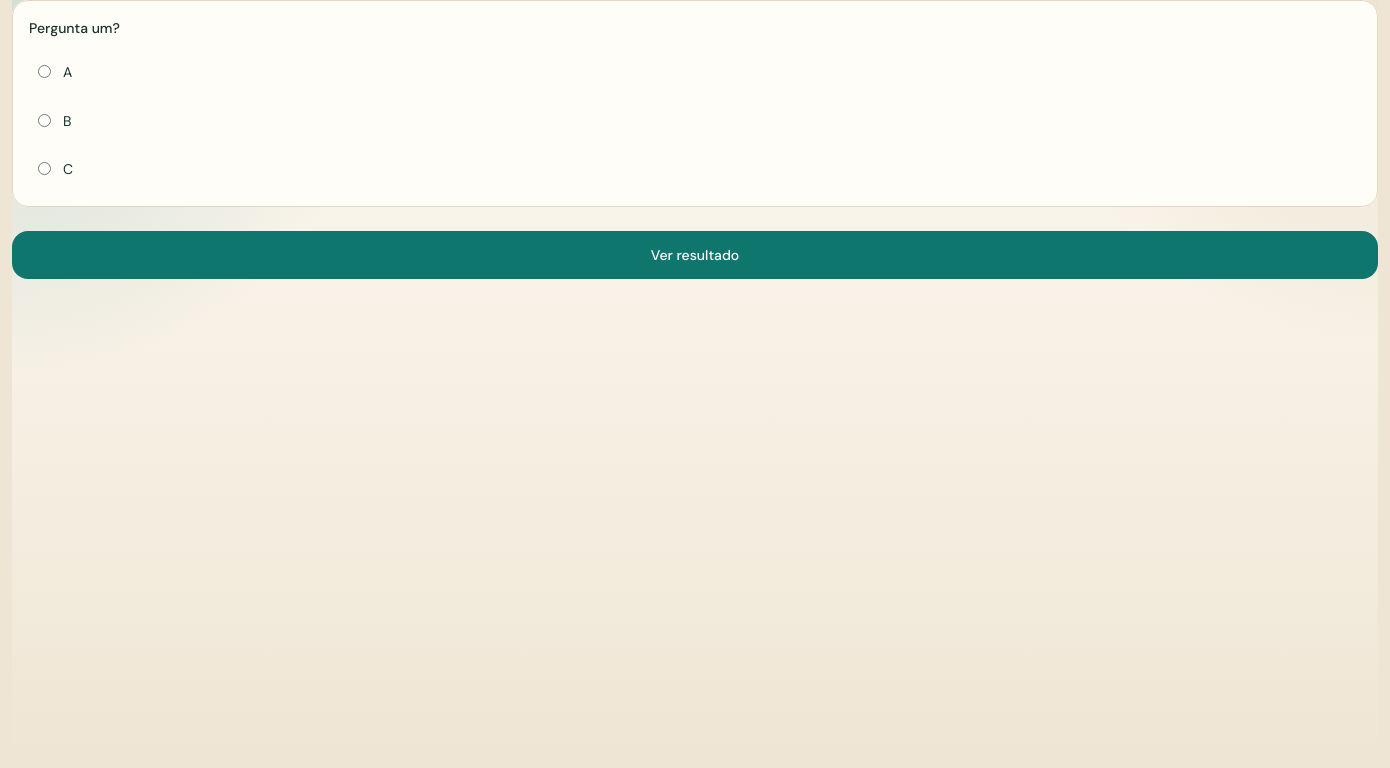
Test: ExamRunner › envia respostas e mostra resultado
What coordinates should you click on to do the following:
click the radio button labelled "B"
I would click on:
 (44, 120)
Its box is [38,114,51,126].
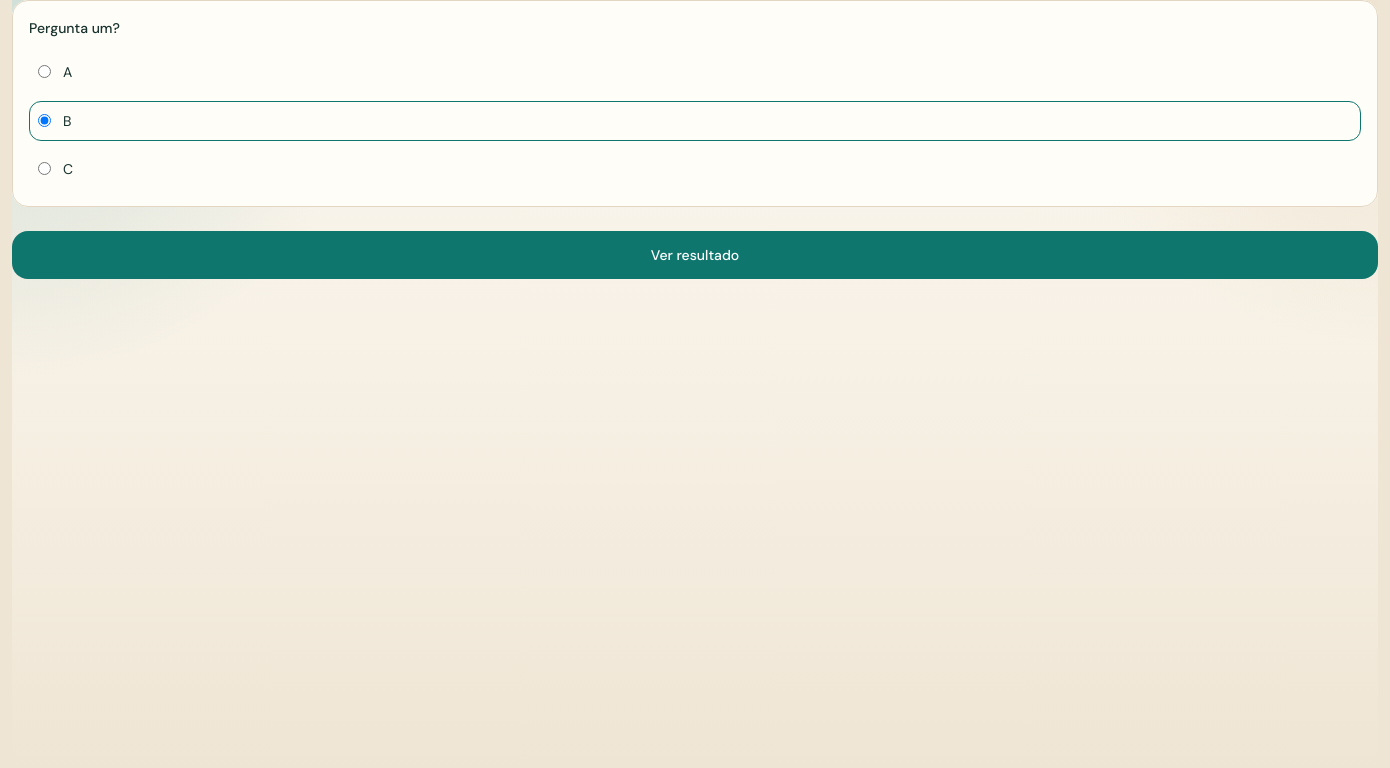
What coordinates should you click on to do the following:
click the button "Ver resultado"
I would click on:
 (695, 255)
Its box is [12,231,1378,279].
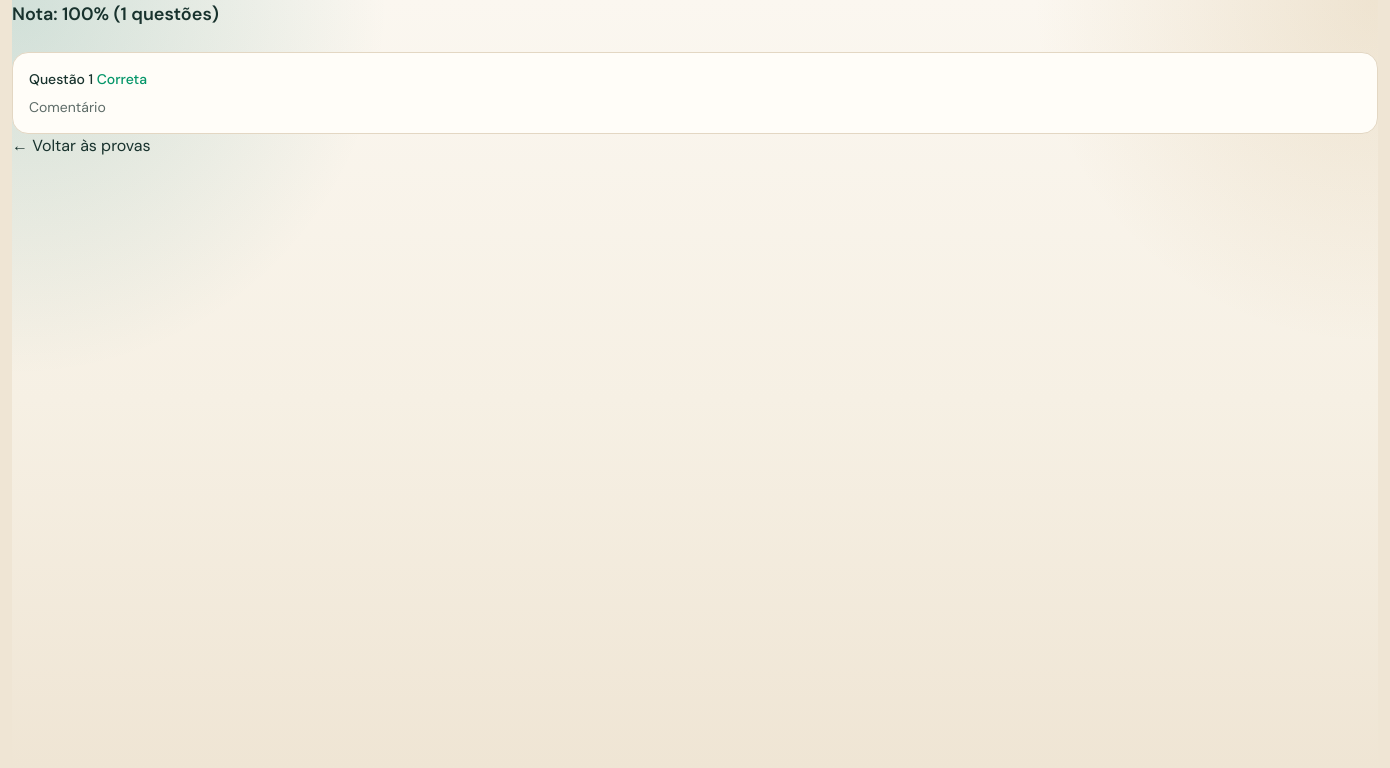
Check: the text "Nota: 100% (1 questões)" is shown, box [12,2,219,26]
Check: the text "Comentário" is shown, box [29,98,106,116]
